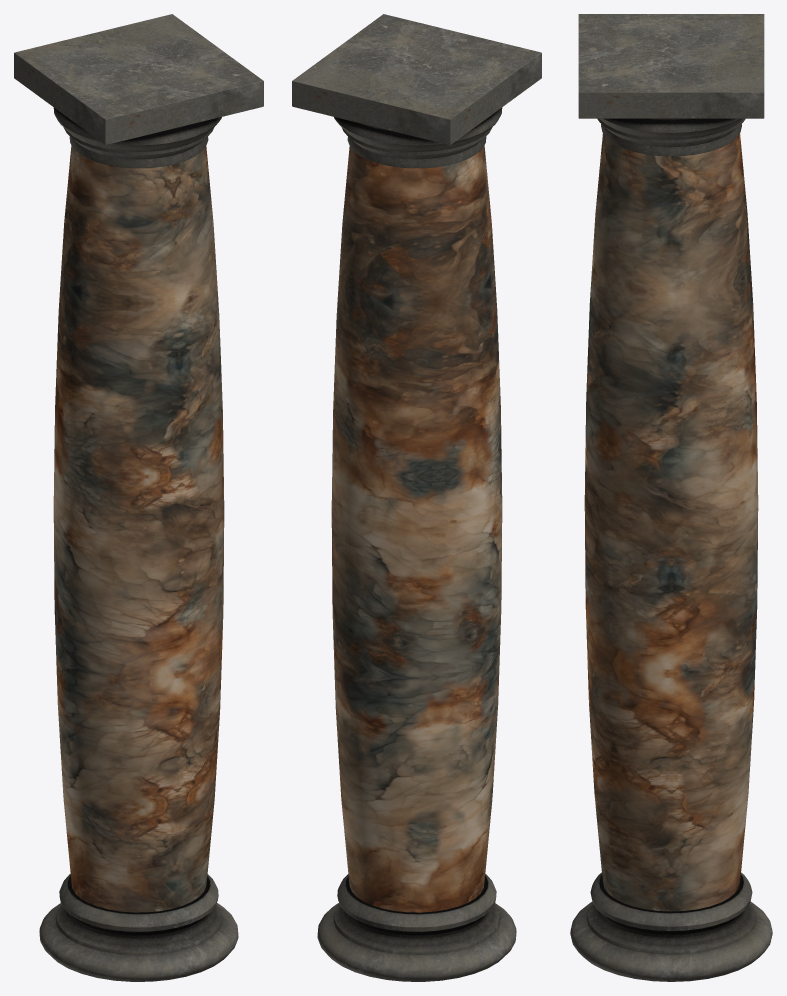
The model's file is ClassicalColumns.fbx.
3 views of the same model, side by side, from view 1: azimuth 30°, elevation 25°; view 2: azimuth 150°, elevation 25°; view 3: azimuth 270°, elevation 25° (orthographic).
Visible parts, largest first — view 1: ClassicCol.01; view 2: ClassicCol.01; view 3: ClassicCol.01.
Boxes of the visible parts, x1,y1,x2,y2 form: ClassicCol.01: (14,14,263,981); ClassicCol.01: (292,14,541,981); ClassicCol.01: (570,14,772,981).
Bounding box in the file's own units: 124 × 600 × 124.
